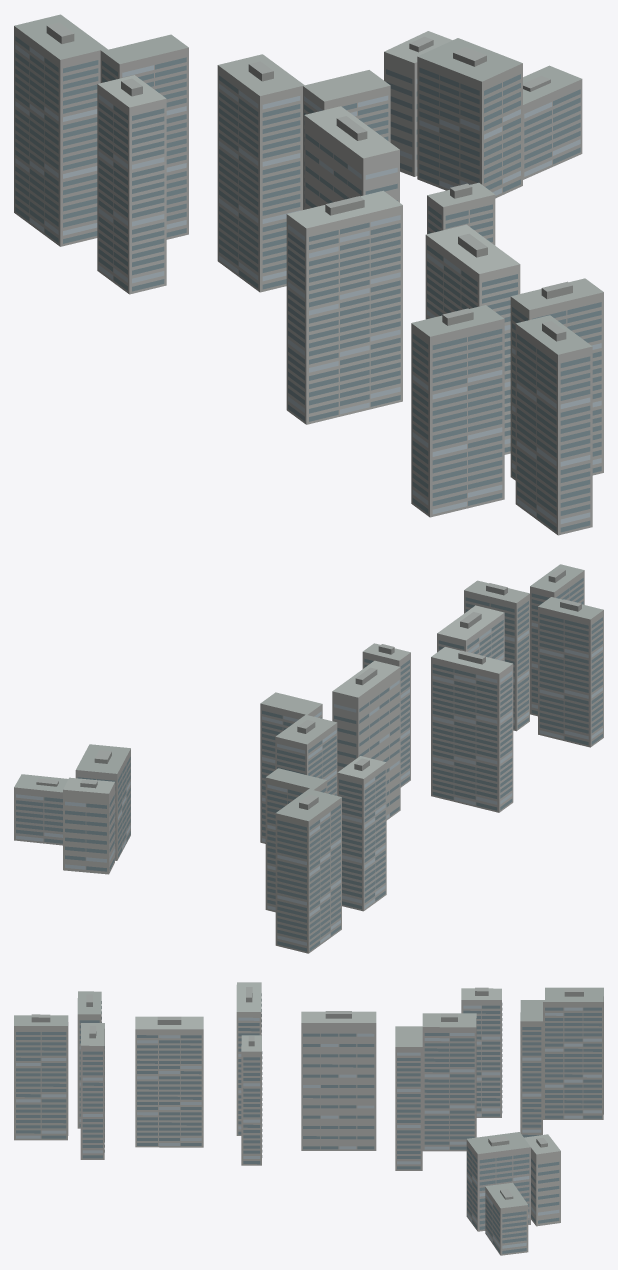
File: apt-a15003802.glb
3 renders of one model, top to bottom at view 1: azimuth 30°, elevation 25°; view 2: azimuth 150°, elevation 25°; view 3: azimuth 270°, elevation 25°, orthographic. The views are drawn at different scales.
Visible parts, largest first — view 1: apt-a15003802; view 2: apt-a15003802; view 3: apt-a15003802.
Boxes of the visible parts, box(x1,y1,x2,y2) form: apt-a15003802: box(14, 14, 603, 535); apt-a15003802: box(14, 564, 603, 953); apt-a15003802: box(14, 982, 603, 1255).
Size of the model in its own units: 163 by 67 by 270.
